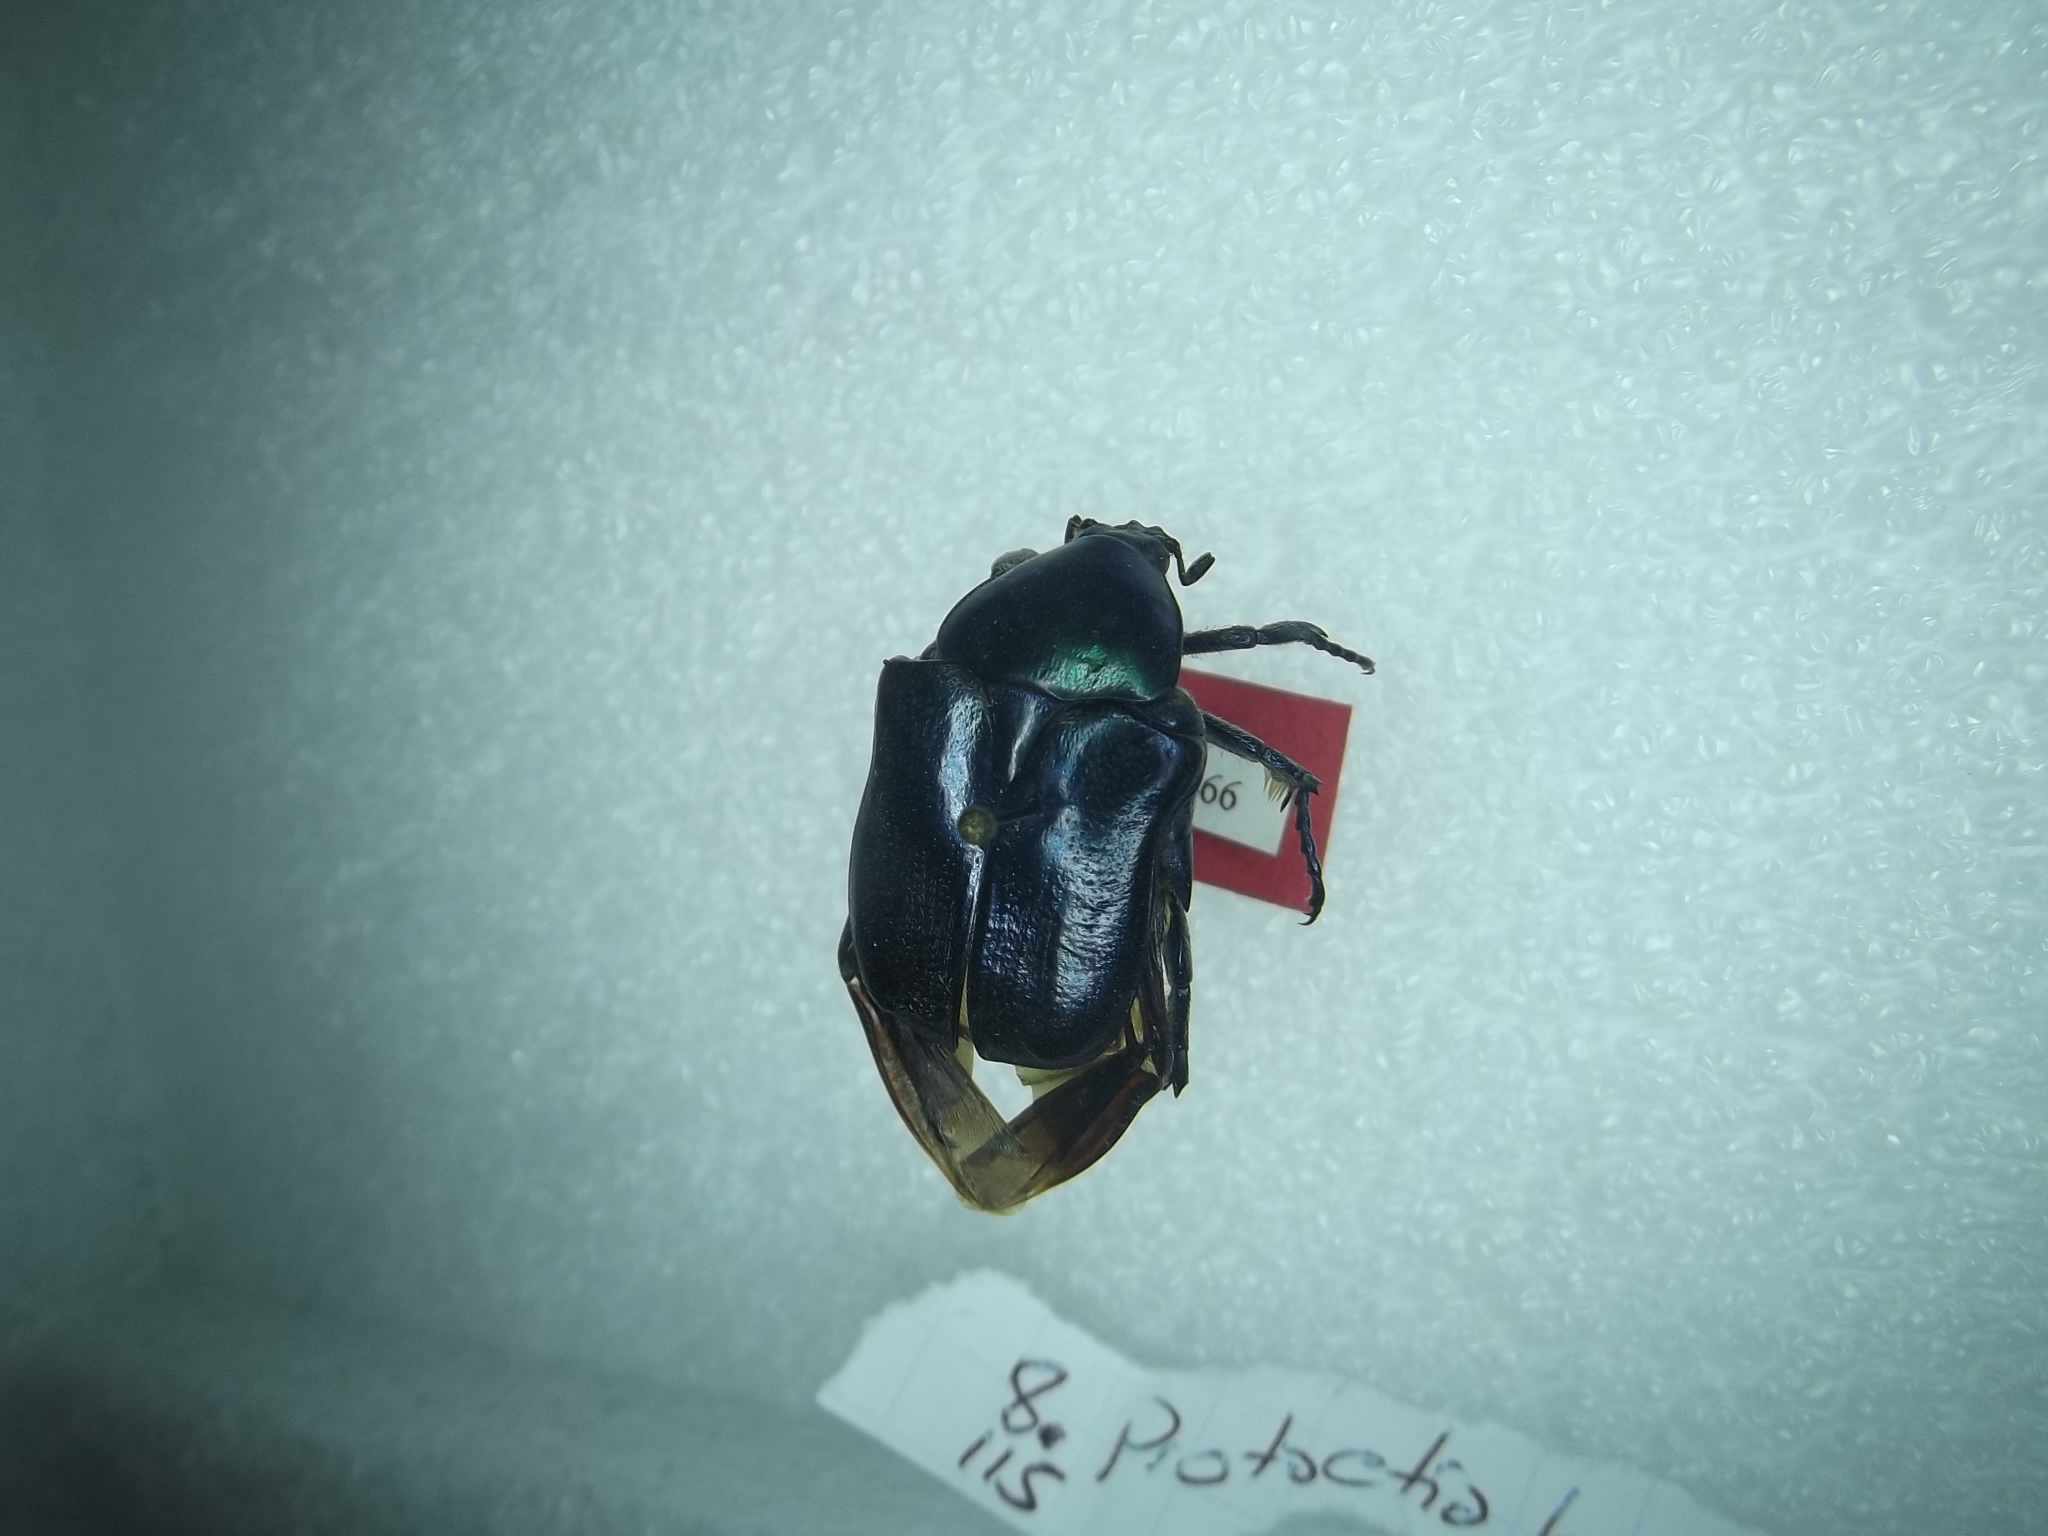Protaetia_besucheti: (805, 494, 1380, 1244)
